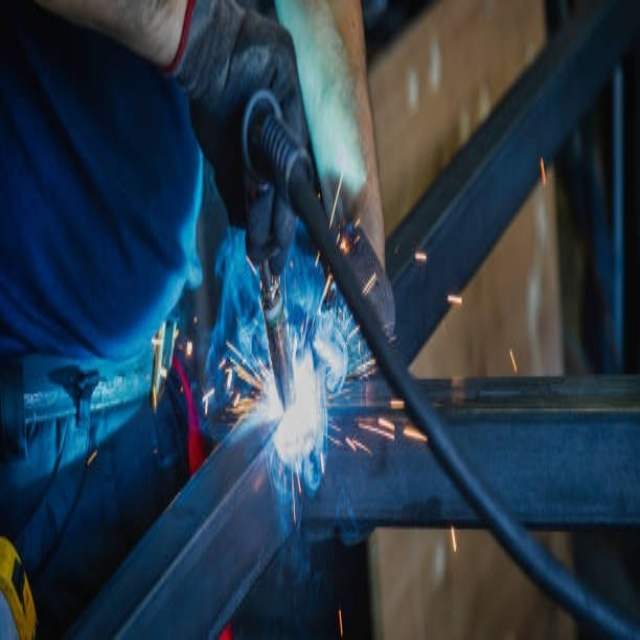Guantes: (175, 2, 320, 265)
